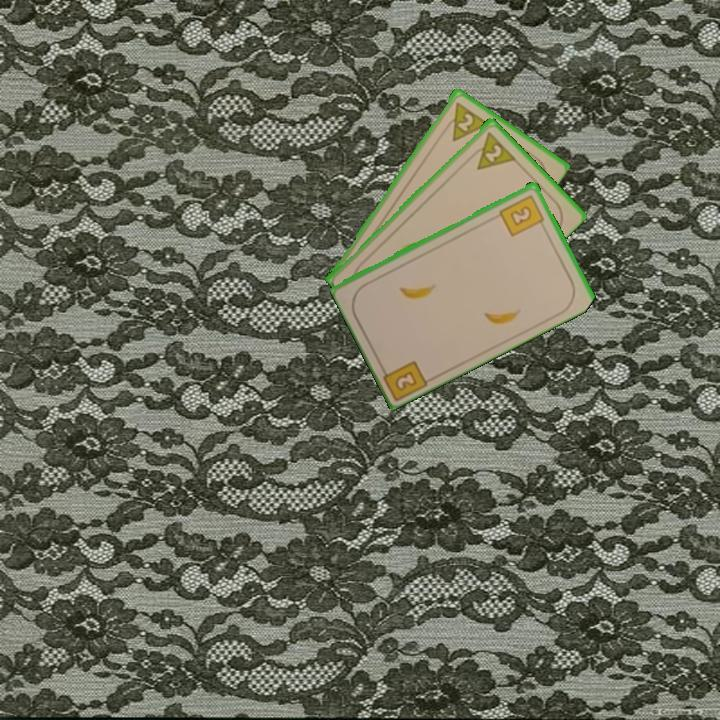2b: (496, 191, 548, 239), (376, 357, 431, 402)
2p: (439, 98, 490, 144), (466, 128, 518, 172)
